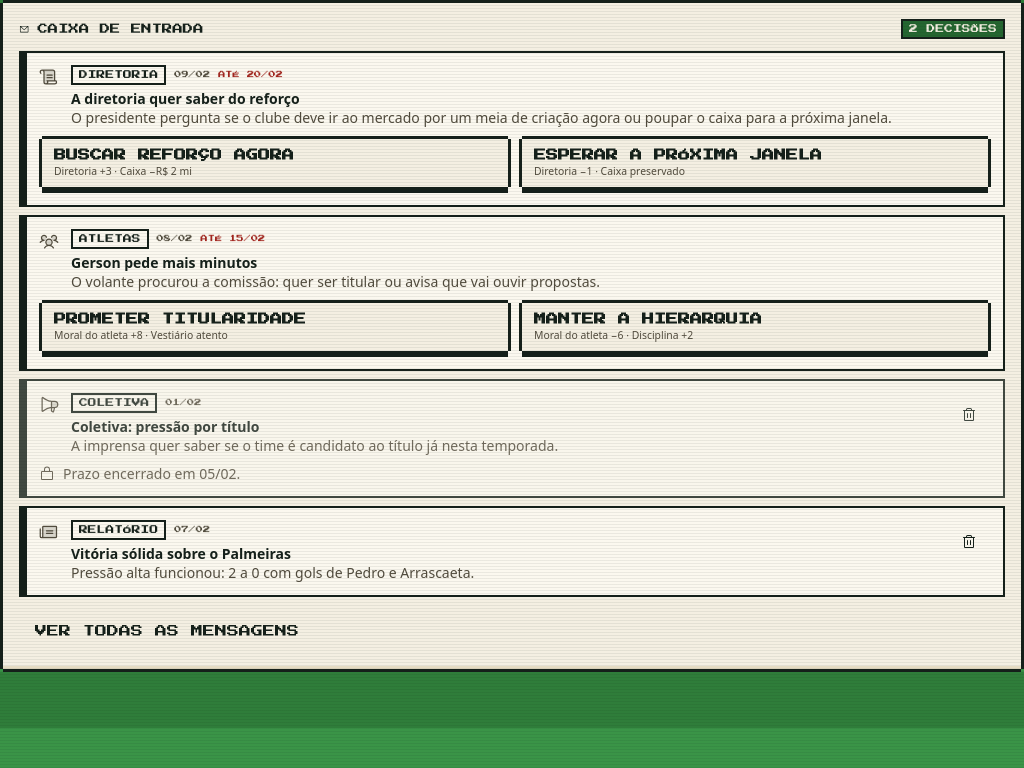
Test: Caixa de entrada com decisões › mostra o erro do servidor sem perder a mensagem
Click the button "Manter a hierarquia Moral do atleta −6 · Disciplina +2": (755, 327) top-left (522, 303), bottom-right (988, 351)
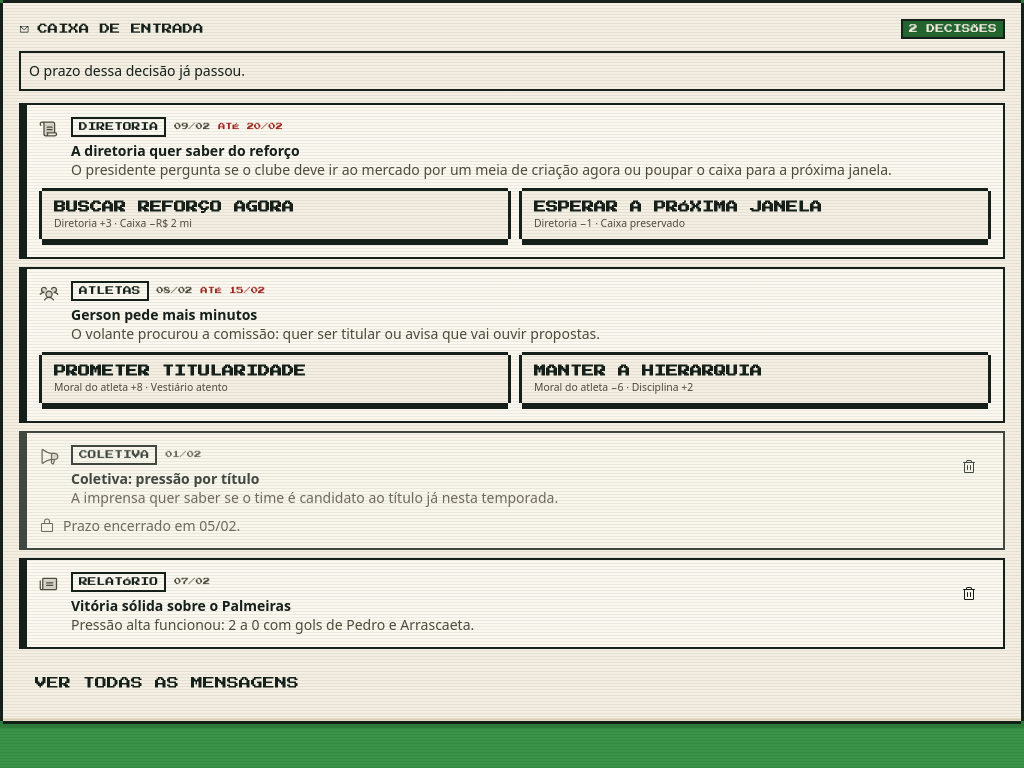
Expected: the button "Manter a hierarquia Moral do atleta −6 · Disciplina +2" is shown, top-left (522, 355), bottom-right (988, 403)
Now the message shows "prazo dessa decisão já passou", box top-left (29, 61), bottom-right (245, 80)
